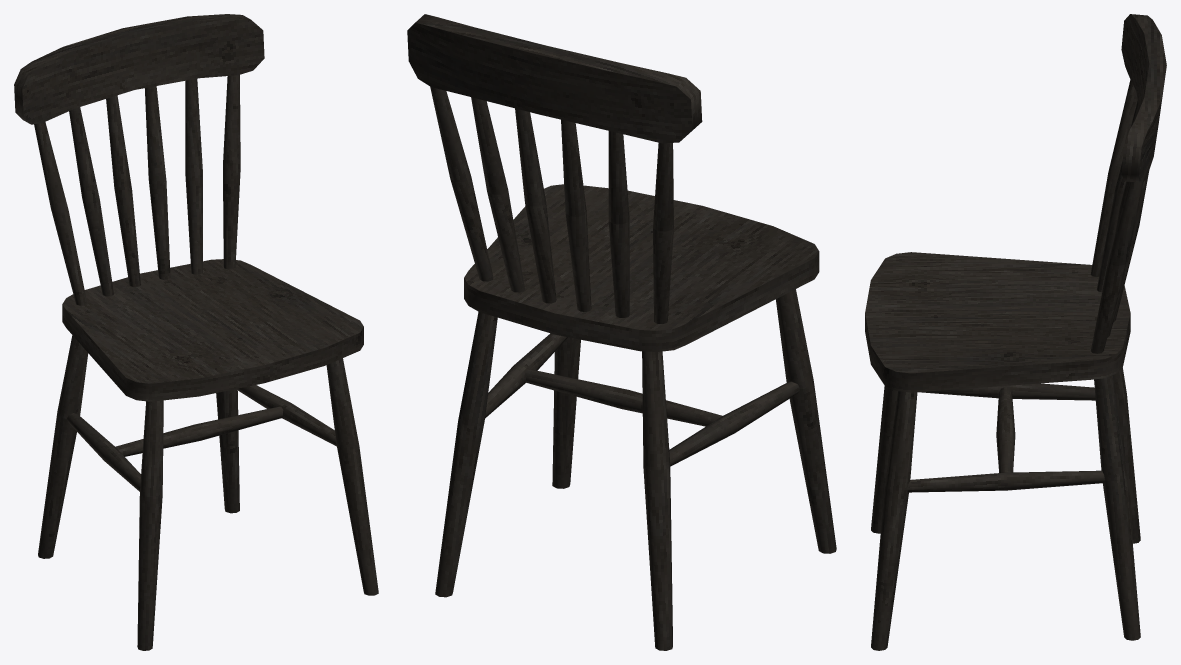
Rendered from chair_mp_5.glb.
3 views of the same model, side by side, from view 1: azimuth 30°, elevation 25°; view 2: azimuth 150°, elevation 25°; view 3: azimuth 270°, elevation 25° (orthographic). The views are drawn at different scales.
Visible parts, largest first — view 1: chair_mp_5; view 2: chair_mp_5; view 3: chair_mp_5.
Part boxes in pixels (x1=…): chair_mp_5: x1=14, y1=14, x2=378, y2=650; chair_mp_5: x1=407, y1=14, x2=836, y2=650; chair_mp_5: x1=865, y1=14, x2=1166, y2=650.
Bounding box in the file's own units: 0.5145 × 1.01 × 0.5254.
1 material, 1 textured.
